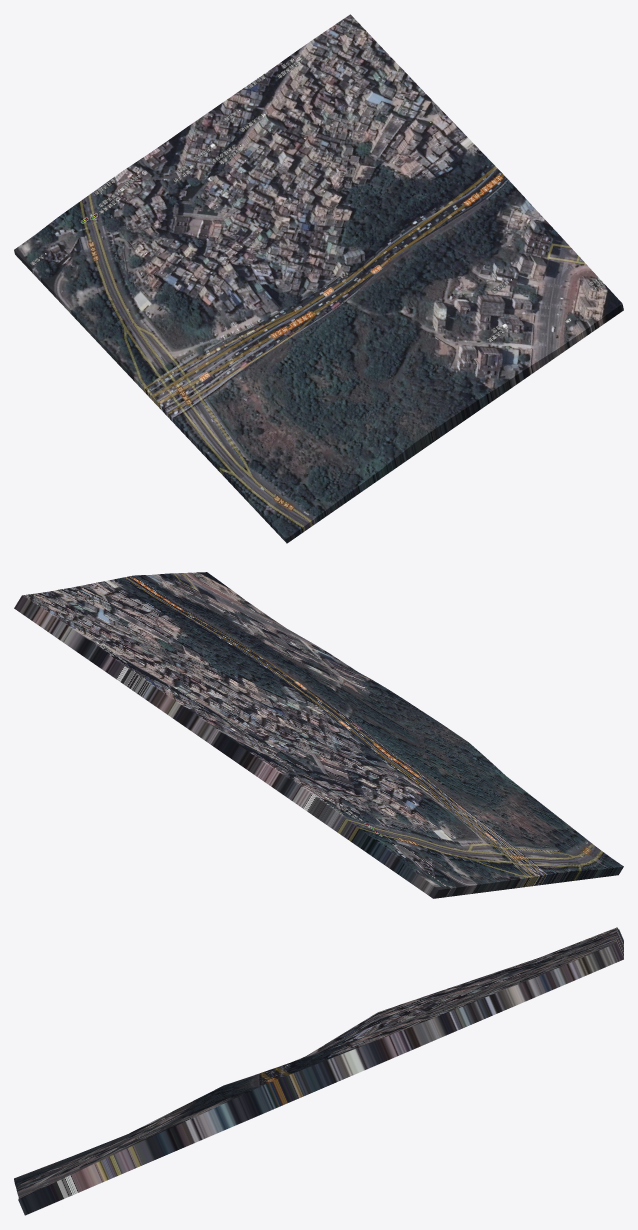
3 renders of one model, top to bottom at view 1: azimuth 30°, elevation 25°; view 2: azimuth 150°, elevation 25°; view 3: azimuth 270°, elevation 25°, orthographic. The views are drawn at different scales.
Visible parts, largest first — view 1: 0_2_1; view 2: 0_2_1; view 3: 0_2_1.
Part boxes in pixels (box(x1,y1,x2,y2)): 0_2_1: box(14, 14, 623, 543); 0_2_1: box(14, 572, 623, 898); 0_2_1: box(14, 927, 623, 1215).
Size of the model in its own units: 596 by 441 by 552.
Materials: 1 (1 with a texture image).
